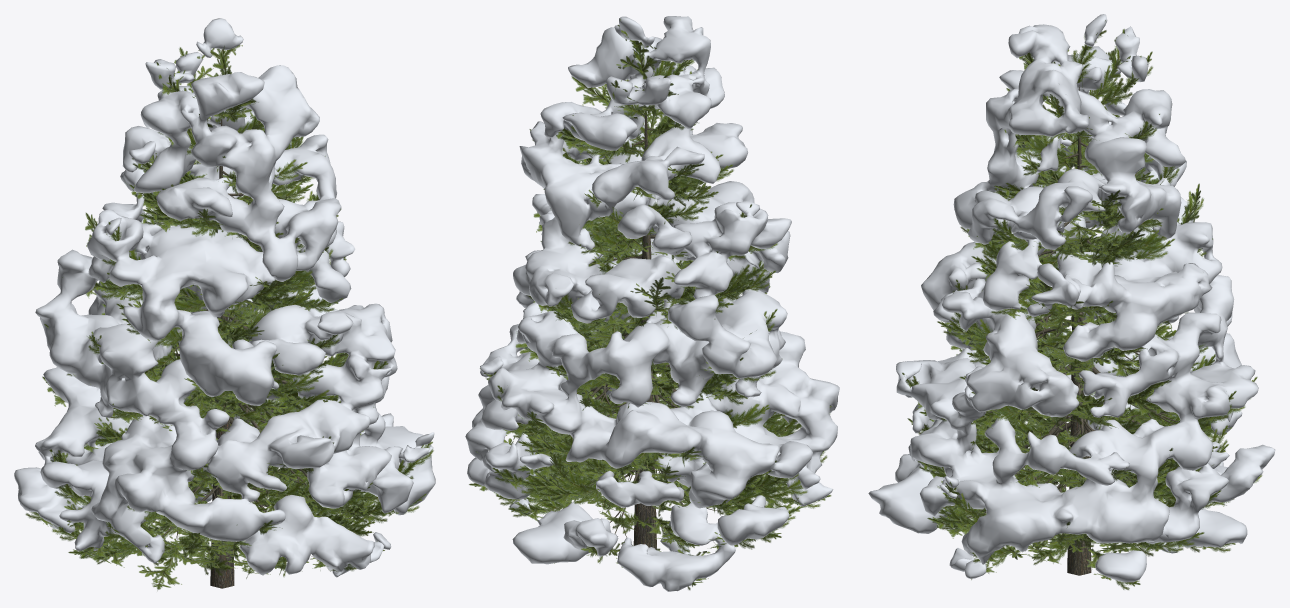
File: snow_tree.glb
3 renders of one model, left to right at view 1: azimuth 30°, elevation 25°; view 2: azimuth 150°, elevation 25°; view 3: azimuth 270°, elevation 25°, orthographic. The views are drawn at different scales.
Parts seen in each view (by area): view 1: bq_Tree_Picea-abies_A_winter; view 2: bq_Tree_Picea-abies_A_winter; view 3: bq_Tree_Picea-abies_A_winter.
Boxes of the visible parts, bbox=[...] form: bq_Tree_Picea-abies_A_winter: bbox=[14, 18, 435, 590]; bq_Tree_Picea-abies_A_winter: bbox=[465, 16, 839, 591]; bq_Tree_Picea-abies_A_winter: bbox=[868, 14, 1275, 590].
Size of the model in its own units: 1.57 by 2.41 by 1.59.
Materials: 3 (2 with a texture image).
